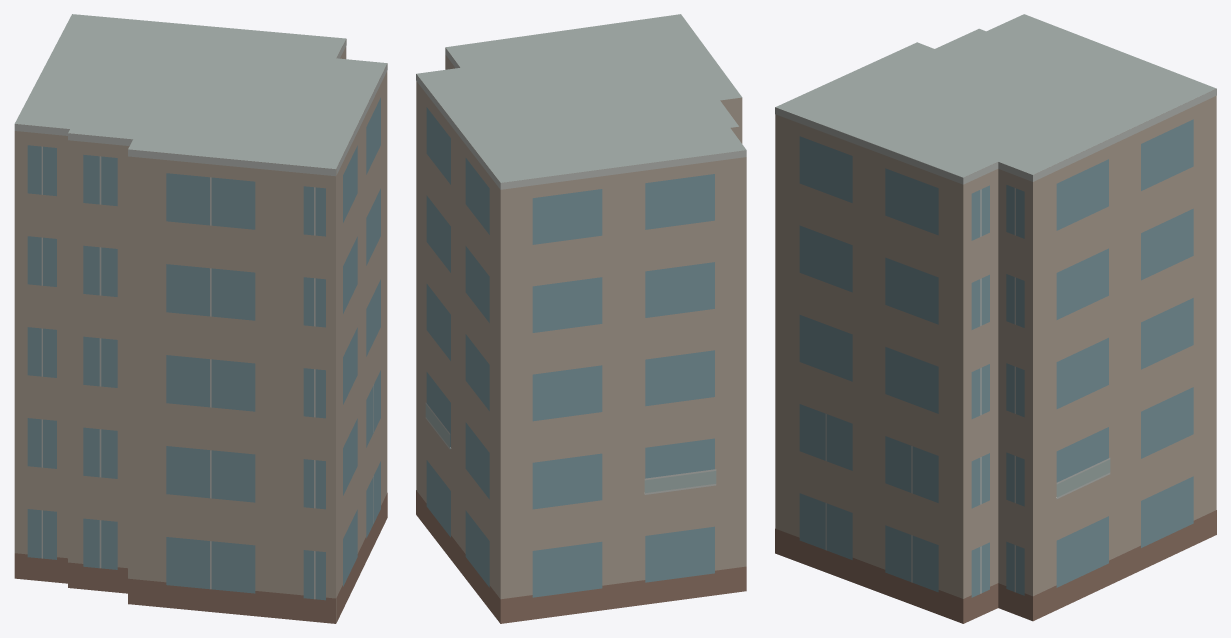
File: survey-upis-32538875.glb
3 views of the same model, side by side, from view 1: azimuth 30°, elevation 25°; view 2: azimuth 150°, elevation 25°; view 3: azimuth 270°, elevation 25° (orthographic). The views are drawn at different scales.
Visible parts, largest first — view 1: survey-upis-32538875.tmp; view 2: survey-upis-32538875.tmp; view 3: survey-upis-32538875.tmp.
Part boxes in pixels (box(x1,y1,x2,y2)): survey-upis-32538875.tmp: box(14, 14, 387, 623); survey-upis-32538875.tmp: box(416, 14, 746, 623); survey-upis-32538875.tmp: box(775, 14, 1216, 623).
Bounding box in the file's own units: 12.28 × 15.6 × 14.
